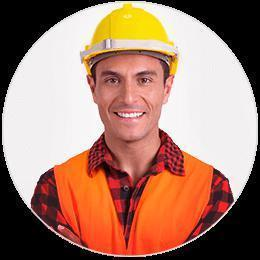helmet: (79, 2, 179, 74)
